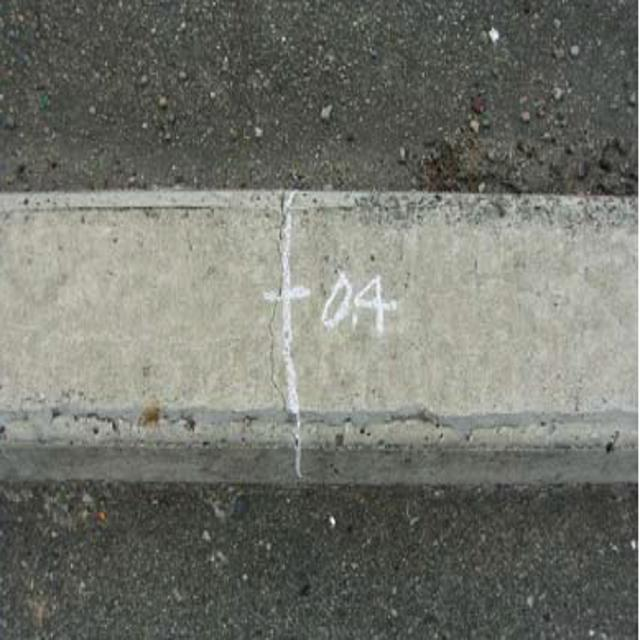crack: (267, 192, 314, 454)
